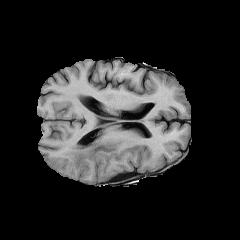glioma: (61, 137, 123, 170)
